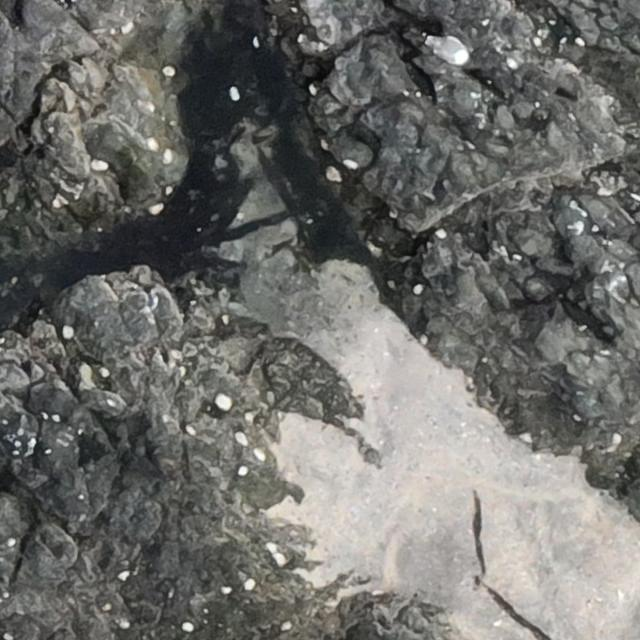umineko: (422, 34, 470, 67)
